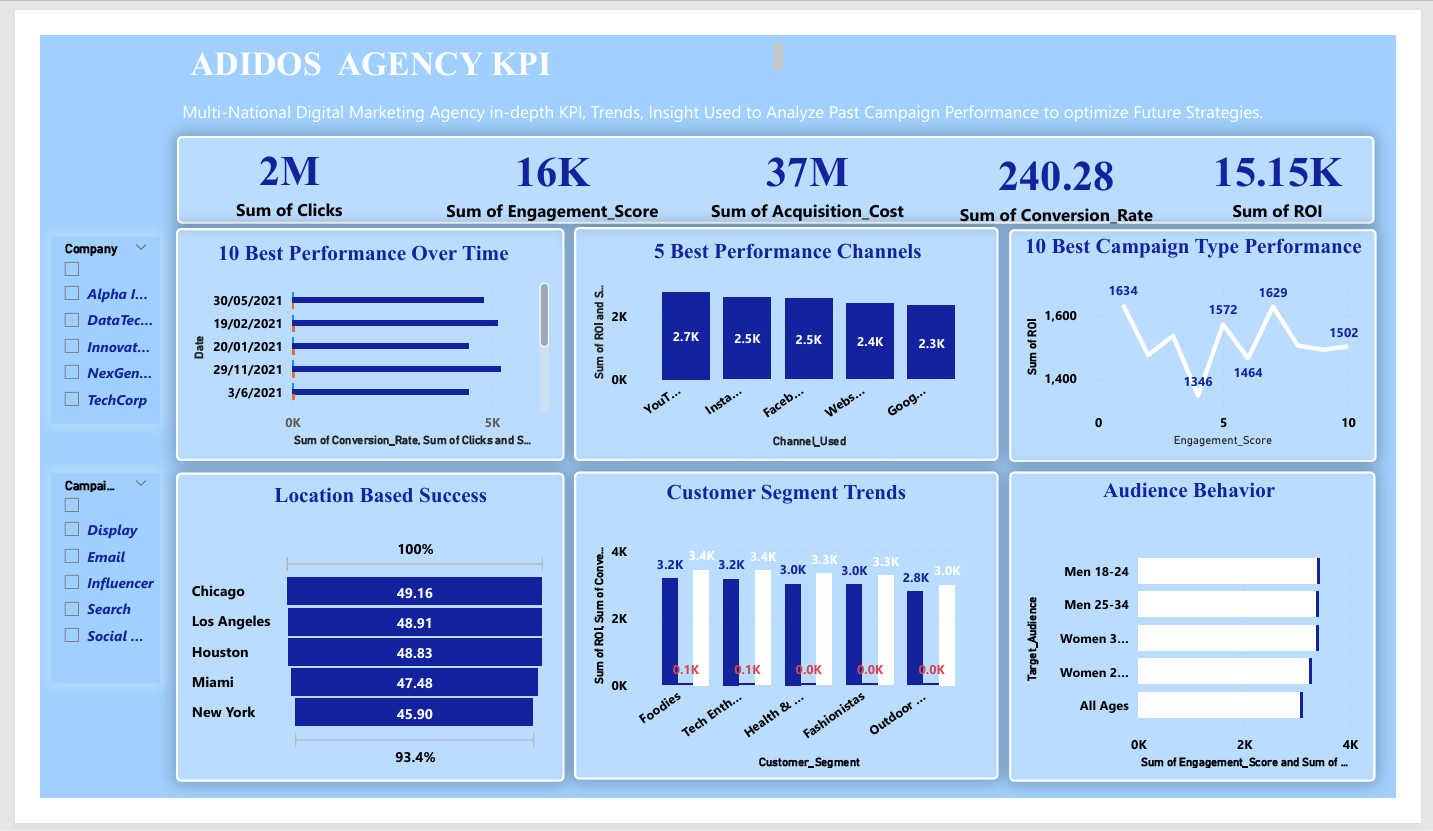

Layout of this report page (visuals, bound fields, positions):
{"tool":"powerbi","page":{"name":"Adidos Company","canvas":[1280,720],"ordinal":0},"visuals":[{"type":"shape","box":[128.6,95.2,1131.7,82.5],"z":0},{"type":"shape","box":[128.3,181.7,366.7,220],"z":1000},{"type":"shape","box":[504.2,181.3,400.8,221.1],"z":2000},{"type":"shape","box":[915,183.3,346.7,220],"z":3000},{"type":"shape","box":[128.3,413.3,366.7,291.7],"z":4000},{"type":"textbox","box":[128.6,55.7,1041.4,32.9],"z":5000},{"type":"textbox","box":[135.7,2.9,570,52.9],"z":6000},{"type":"shape","box":[504.2,412,400.8,291.1],"z":7000},{"type":"shape","box":[914.6,412,346.8,292.7],"z":8000},{"type":"clusteredBarChart","fields":{"Category":["adidos_campaign.Date"],"Y":["Sum(adidos_campaign.Conversion_Rate)","Sum(adidos_campaign.Clicks)","Sum(adidos_campaign.Engagement_Score)"]},"box":[140,221.1,345.2,171.8],"z":9000},{"type":"columnChart","fields":{"Category":["adidos_campaign.Channel_Used"],"Y":["Sum(adidos_campaign.ROI)","Sum(adidos_campaign.Conversion_Rate)"]},"box":[516.9,221.1,377,173.4],"z":10000},{"type":"lineChart","fields":{"Category":["adidos_campaign.Engagement_Score"],"Y":["Sum(adidos_campaign.ROI)"]},"box":[925.7,221.1,324.5,171.8],"z":11000},{"type":"funnel","fields":{"Category":["adidos_campaign.Location"],"Y":["Sum(adidos_campaign.Conversion_Rate)"]},"box":[138.4,467.6,345.2,229],"z":12000},{"type":"barChart","fields":{"Category":["adidos_campaign.Target_Audience"],"Y":["Sum(adidos_campaign.Engagement_Score)","Sum(adidos_campaign.Conversion_Rate)"]},"box":[925.7,467.6,324.5,229],"z":13000},{"type":"clusteredColumnChart","fields":{"Category":["adidos_campaign.Customer_Segment"],"Y":["Sum(adidos_campaign.ROI)","Sum(adidos_campaign.Conversion_Rate)","Sum(adidos_campaign.Engagement_Score)"]},"box":[516.9,467.6,377,229],"z":14000},{"type":"card","fields":{"Values":["Sum(adidos_campaign.Conversion_Rate)"]},"box":[852.9,98.6,212.9,84.3],"z":15000},{"type":"card","fields":{"Values":["Sum(adidos_campaign.Acquisition_Cost)"]},"box":[622.9,94.3,202.9,85.7],"z":16000},{"type":"card","fields":{"Values":["Sum(adidos_campaign.ROI)"]},"box":[1077.1,94.3,182.9,84.3],"z":17000},{"type":"slicer","fields":{"Values":["adidos_campaign.Company"]},"box":[9.5,190.5,103.4,176.6],"z":18000},{"type":"slicer","fields":{"Values":["adidos_campaign.Campaign_Type"]},"box":[10.1,413.2,103.3,198.5],"z":19000},{"type":"actionButton","box":[145.8,188.4,318,34.4],"z":20000},{"type":"actionButton","box":[571,186.1,270.4,35],"z":21000},{"type":"actionButton","box":[898.7,171.8,380.2,55.7],"z":22000},{"type":"actionButton","box":[186.1,416.7,270.4,35],"z":23000},{"type":"actionButton","box":[569.4,413.6,270.4,35],"z":24000},{"type":"actionButton","box":[949.6,412,270.4,35],"z":25000},{"type":"card","fields":{"Values":["Sum(adidos_campaign.Clicks)"]},"box":[128.6,92.9,212.9,85.7],"z":26000},{"type":"card","fields":{"Values":["Sum(adidos_campaign.Engagement_Score)"]},"box":[377.1,94.3,212.9,85.7],"z":27000}]}

Visuals, with their boxes on the page's 1280x720 design canvas (x1, y1, x2, y2). These are canvas units, not pixel positions in the 1433x831 screenshot, which may show the page scaled, cropped or inside an application window:
shape: l=129, t=95, r=1260, b=178
shape: l=128, t=182, r=495, b=402
shape: l=504, t=181, r=905, b=402
shape: l=915, t=183, r=1262, b=403
shape: l=128, t=413, r=495, b=705
textbox: l=129, t=56, r=1170, b=89
textbox: l=136, t=3, r=706, b=56
shape: l=504, t=412, r=905, b=703
shape: l=915, t=412, r=1261, b=705
clusteredBarChart - adidos_campaign.Date x Sum(adidos_campaign.Conversion_Rate): l=140, t=221, r=485, b=393
columnChart - adidos_campaign.Channel_Used x Sum(adidos_campaign.ROI): l=517, t=221, r=894, b=394
lineChart - adidos_campaign.Engagement_Score x Sum(adidos_campaign.ROI): l=926, t=221, r=1250, b=393
funnel - adidos_campaign.Location x Sum(adidos_campaign.Conversion_Rate): l=138, t=468, r=484, b=697
barChart - adidos_campaign.Target_Audience x Sum(adidos_campaign.Engagement_Score): l=926, t=468, r=1250, b=697
clusteredColumnChart - adidos_campaign.Customer_Segment x Sum(adidos_campaign.ROI): l=517, t=468, r=894, b=697
card - Sum(adidos_campaign.Conversion_Rate): l=853, t=99, r=1066, b=183
card - Sum(adidos_campaign.Acquisition_Cost): l=623, t=94, r=826, b=180
card - Sum(adidos_campaign.ROI): l=1077, t=94, r=1260, b=179
slicer - adidos_campaign.Company: l=10, t=190, r=113, b=367
slicer - adidos_campaign.Campaign_Type: l=10, t=413, r=113, b=612
actionButton: l=146, t=188, r=464, b=223
actionButton: l=571, t=186, r=841, b=221
actionButton: l=899, t=172, r=1279, b=228
actionButton: l=186, t=417, r=456, b=452
actionButton: l=569, t=414, r=840, b=449
actionButton: l=950, t=412, r=1220, b=447
card - Sum(adidos_campaign.Clicks): l=129, t=93, r=342, b=179
card - Sum(adidos_campaign.Engagement_Score): l=377, t=94, r=590, b=180
